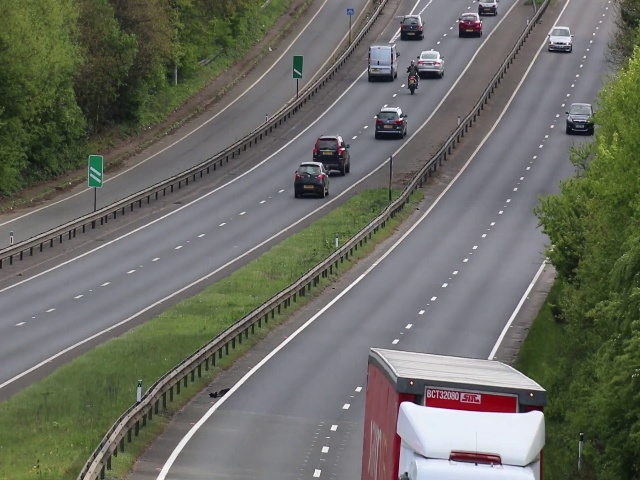car: (366, 349, 545, 480), (313, 134, 351, 175), (295, 160, 329, 199), (367, 44, 400, 80), (374, 104, 408, 138), (566, 100, 595, 135), (417, 48, 444, 79), (546, 23, 571, 53), (400, 12, 426, 39), (457, 12, 482, 39)
